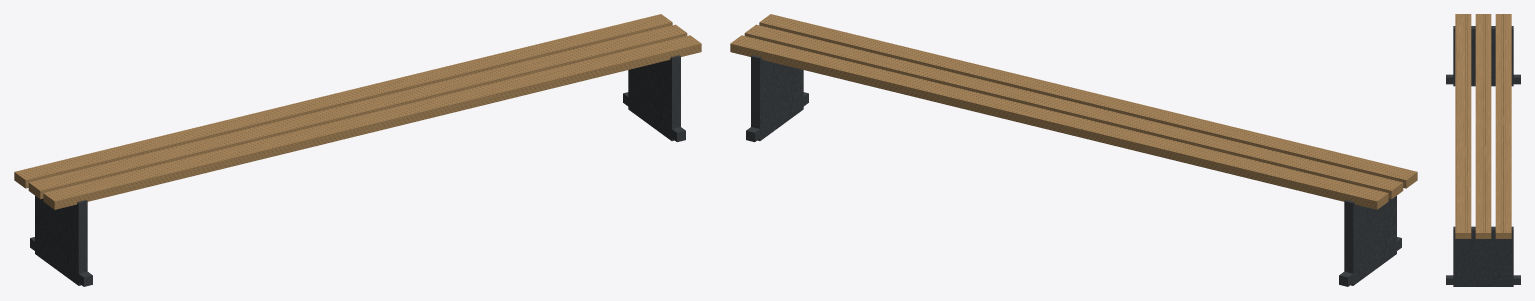
Rendered from bank_lang_h7.glb.
3 renders of one model, left to right at view 1: azimuth 30°, elevation 25°; view 2: azimuth 150°, elevation 25°; view 3: azimuth 270°, elevation 25°, orthographic. The views are drawn at different scales.
Parts seen in each view (by area): view 1: H7; view 2: H7; view 3: H7.
Boxes of the visible parts, x1,y1,x2,y2 form: H7: (14,14,701,286); H7: (730,14,1417,286); H7: (1446,14,1520,286).
Bounding box in the file's own units: 3.6 × 0.4725 × 0.52.
Materials: 1 (1 with a texture image).
